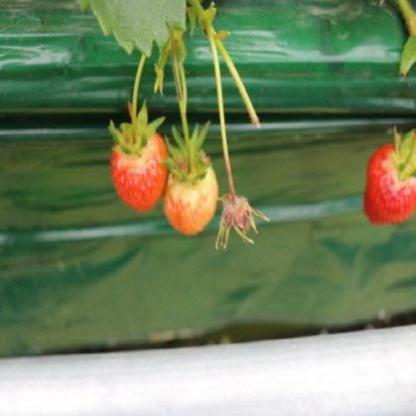Strawberry_Gray_Mold: (216, 183, 271, 250)
